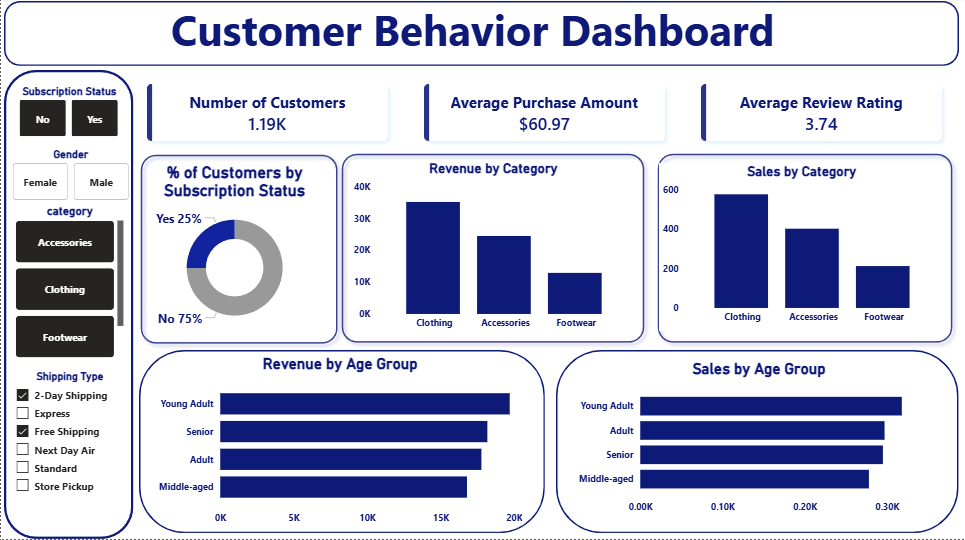

This screenshot's page, from the dashboard's own definition file:
{"tool":"powerbi","page":{"name":"Page 1","canvas":[1280,720],"ordinal":0},"visuals":[{"type":"cardVisual","fields":{"Data":["CountNonNull(public customer.customer_id)","Avg(public customer.purchase_amount)","Avg(public customer.review_rating)"]},"box":[164.3,86.6,1115.9,134.4],"z":0},{"type":"shape","box":[4.5,0,1268.2,86.6],"z":1000},{"type":"textbox","box":[67.2,0,1102.4,97.1],"z":2000},{"type":"donutChart","title":"% of Customers by Subscription Status","fields":{"Y":["CountNonNull(public customer.customer_id)"],"Category":["public customer.subscription_status"]},"box":[176.3,221.1,267.4,230],"z":3000},{"type":"shape","box":[176.3,200.2,279.3,268.9],"z":4000},{"type":"shape","box":[443.7,198.7,419.8,268.9],"z":5000},{"type":"shape","box":[863.4,198.7,409.3,268.9],"z":6000},{"type":"columnChart","title":"Revenue by Category","fields":{"Category":["public customer.category"],"Y":["Sum(public customer.purchase_amount)"]},"box":[463.1,216.6,380.9,234.5],"z":7000},{"type":"columnChart","title":"Sales by Category","fields":{"Category":["public customer.category"],"Y":["CountNonNull(public customer.purchase_amount)"]},"box":[873.9,221.1,379.4,222.6],"z":8000},{"type":"shape","box":[4.5,97.1,171.8,622.9],"z":9000},{"type":"advancedSlicerVisual","fields":{"Values":["public customer.gender"]},"box":[10.5,200.2,164.3,74.7],"z":10000},{"type":"advancedSlicerVisual","fields":{"Values":["public customer.subscription_status"]},"box":[19.4,116.5,141.9,73.2],"z":11000},{"type":"advancedSlicerVisual","fields":{"Values":["public customer.category"]},"box":[14.9,274.9,153.9,209.1],"z":12000},{"type":"listSlicer","fields":{"Values":["public customer.shipping_type"]},"box":[14.9,495.9,153.9,224.1],"z":13000},{"type":"clusteredBarChart","title":"Revenue by Age Group","fields":{"Category":["public customer.age_group"],"Y":["Sum(public customer.purchase_amount)"]},"box":[203.2,475,494.4,234.5],"z":14000},{"type":"shape","box":[183.7,469,539.3,243.5],"z":15000},{"type":"clusteredBarChart","title":"Sales by Age Group","fields":{"Y":["CountNonNull(public customer.customer_id)"],"Category":["public customer.age_group"]},"box":[761.8,482.5,491.5,213.6],"z":15001},{"type":"shape","box":[737.9,469,534.8,243.5],"z":15002}]}

Visuals, with their boxes in screenshot pixels (x1, y1, x2, y2), scaled from the page's 1280x720 canvas onto the 965x540 screenshot:
cardVisual - CountNonNull(public customer.customer_id) x Avg(public customer.purchase_amount): <box>124,65,964,166</box>
shape: <box>3,0,959,65</box>
textbox: <box>51,0,882,73</box>
"% of Customers by Subscription Status" donutChart: <box>133,166,335,338</box>
shape: <box>133,150,343,352</box>
shape: <box>335,149,651,351</box>
shape: <box>651,149,959,351</box>
"Revenue by Category" columnChart: <box>349,162,636,338</box>
"Sales by Category" columnChart: <box>659,166,945,333</box>
shape: <box>3,73,133,539</box>
advancedSlicerVisual - public customer.gender: <box>8,150,132,206</box>
advancedSlicerVisual - public customer.subscription_status: <box>15,87,122,142</box>
advancedSlicerVisual - public customer.category: <box>11,206,127,363</box>
listSlicer - public customer.shipping_type: <box>11,372,127,539</box>
"Revenue by Age Group" clusteredBarChart: <box>153,356,526,532</box>
shape: <box>138,352,545,534</box>
"Sales by Age Group" clusteredBarChart: <box>574,362,945,522</box>
shape: <box>556,352,959,534</box>
